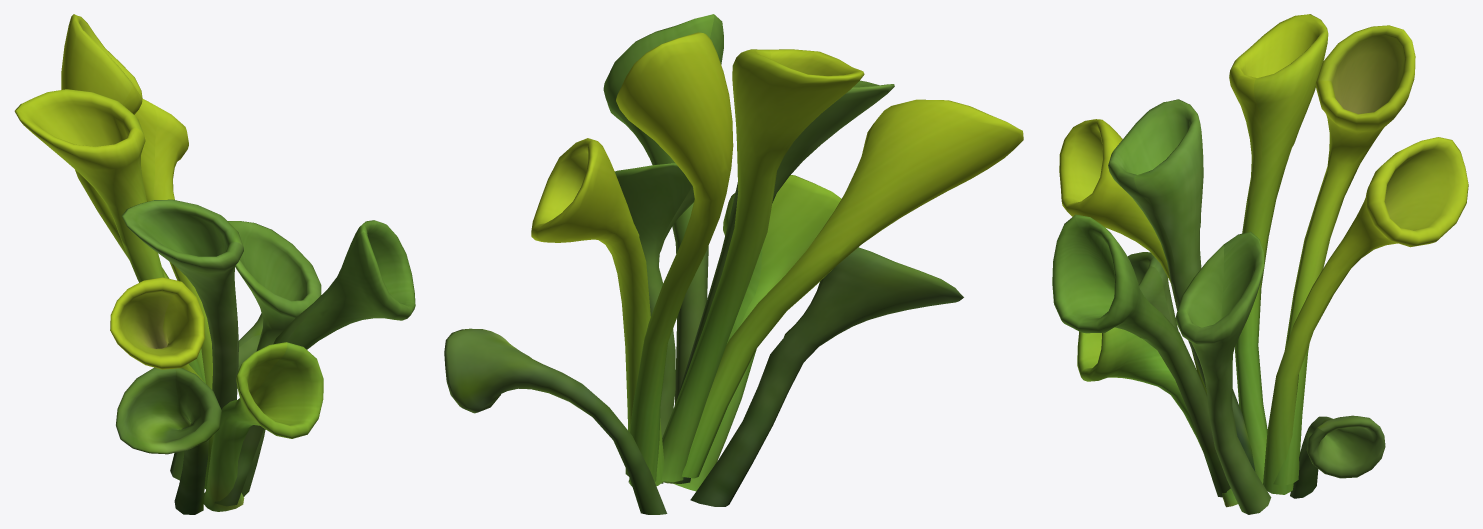
Rendered from plant_62.fbx.
3 renders of one model, left to right at view 1: azimuth 30°, elevation 25°; view 2: azimuth 150°, elevation 25°; view 3: azimuth 270°, elevation 25°, orthographic. The views are drawn at different scales.
Parts seen in each view (by area): view 1: shanhu_04_coral_i009; view 2: shanhu_04_coral_i009; view 3: shanhu_04_coral_i009.
Boxes of the visible parts, bbox=[...] form: shanhu_04_coral_i009: bbox=[14, 14, 415, 514]; shanhu_04_coral_i009: bbox=[444, 14, 1023, 514]; shanhu_04_coral_i009: bbox=[1052, 14, 1468, 514].
Size of the model in its own units: 1.07 by 1.4 by 1.19.
